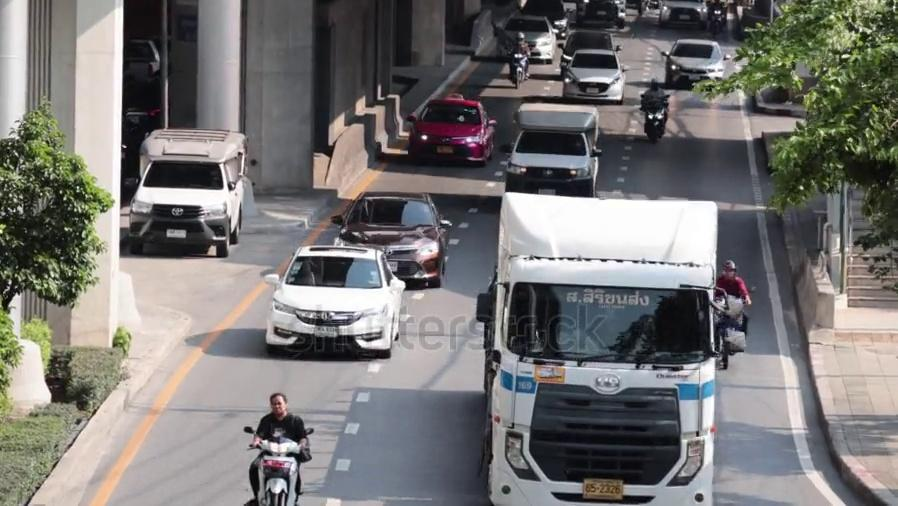rider: (245, 391, 310, 505), (719, 259, 754, 367), (638, 74, 672, 143), (507, 31, 530, 81), (707, 0, 729, 41)
with_helmate: (720, 261, 739, 281), (648, 77, 661, 94), (515, 32, 526, 46)
without_helmate: (268, 392, 289, 419)
